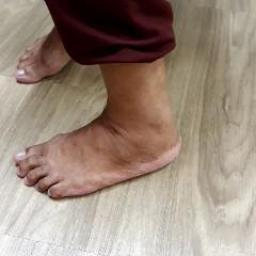Lateral View -Left Foot-: (4, 80, 202, 214)
